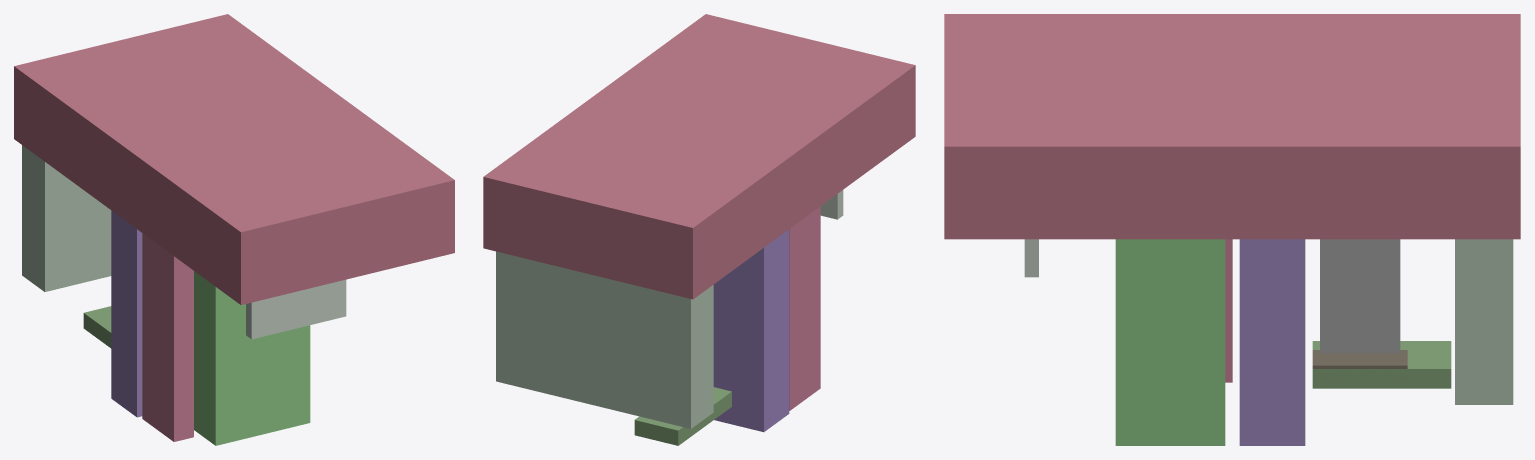
Rendered from 199532_pred.glb.
The picture shows the model from 3 angles, left to right: view 1: azimuth 30°, elevation 25°; view 2: azimuth 150°, elevation 25°; view 3: azimuth 270°, elevation 25°; orthographic projection. The views are drawn at different scales.
Parts seen in each view (by area): view 1: world; view 2: world; view 3: world.
Part boxes in pixels (x1,y1,x2,y2): world: [14, 14, 454, 445]; world: [483, 14, 915, 445]; world: [944, 14, 1520, 445].
Size of the model in its own units: 4.3 by 5.25 by 7.9.
